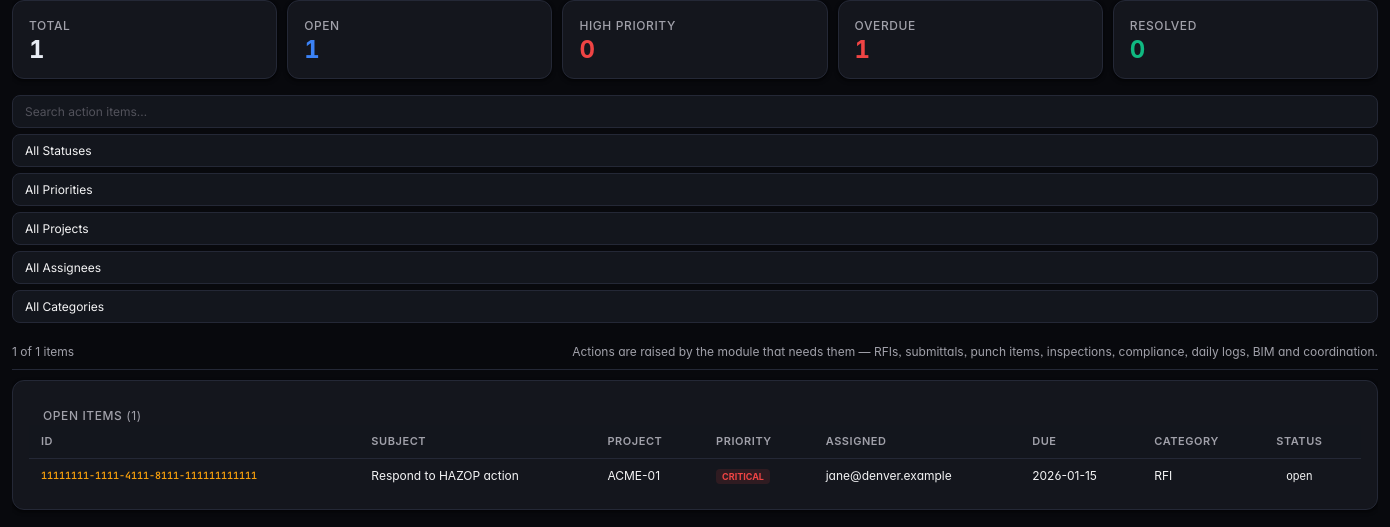
the register drills through to the source module › offers nothing for a source module it does not recognise
Click the text "Respond to HAZOP action": {"x": 477, "y": 475} [359,458,595,493]
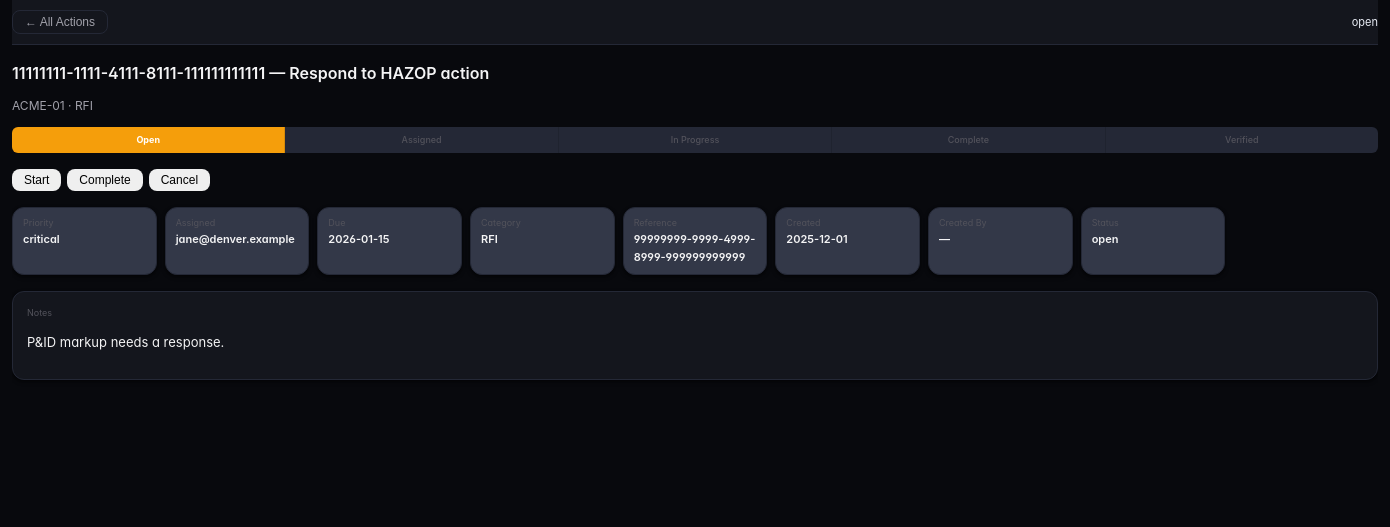
Expected: the button "← All Actions" is shown, [12,10,108,34]
